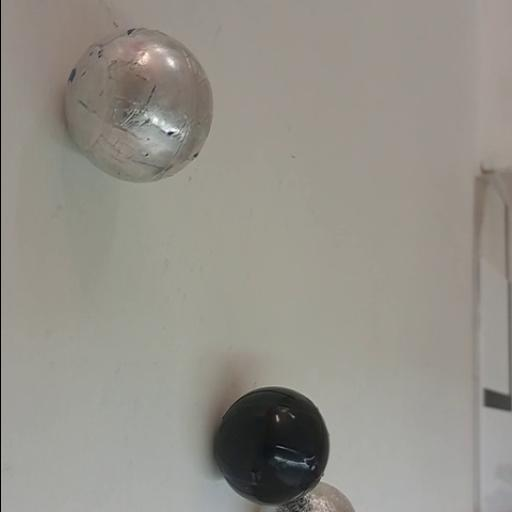alive: (57, 26, 219, 185), (262, 480, 360, 512)
dead: (206, 384, 335, 507)
